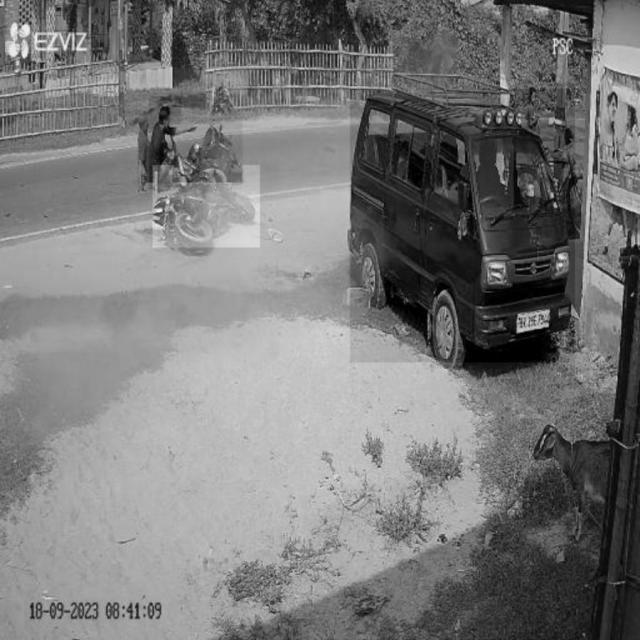person: (149, 96, 181, 188)
vehicle: (350, 89, 574, 362), (152, 165, 260, 247), (173, 118, 243, 182)
